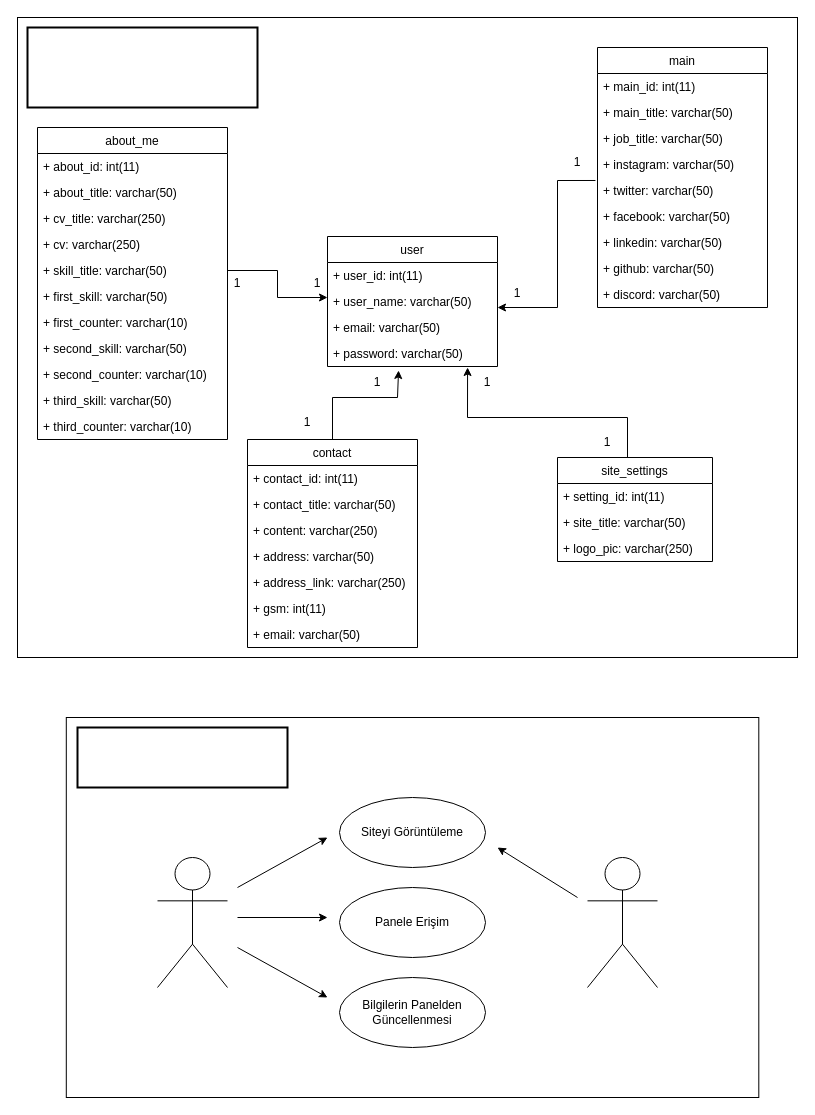
Image size: 815x1115. Some labels were removed from this diagram. The shapes that lost their labels are listed below. From the top down, each one's centre as x and y in pixels, then its label:
[142,67]: UML Diyagram
[182,757]: Use Case Diyagram
[192,922]: Admin
[622,922]: Visiter
